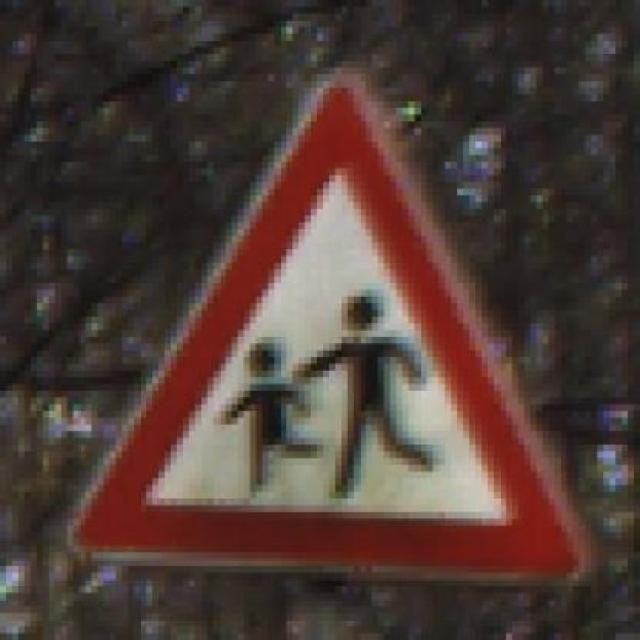Beware of children: (61, 47, 592, 587)
